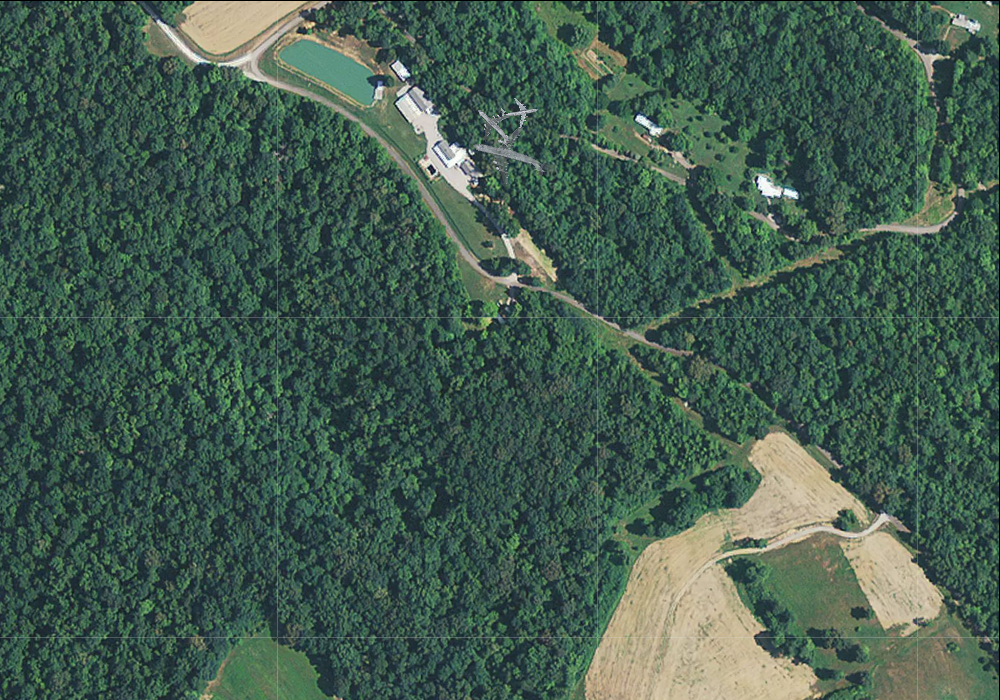plane: (463, 113, 555, 201), (462, 96, 525, 159), (497, 90, 540, 131)
